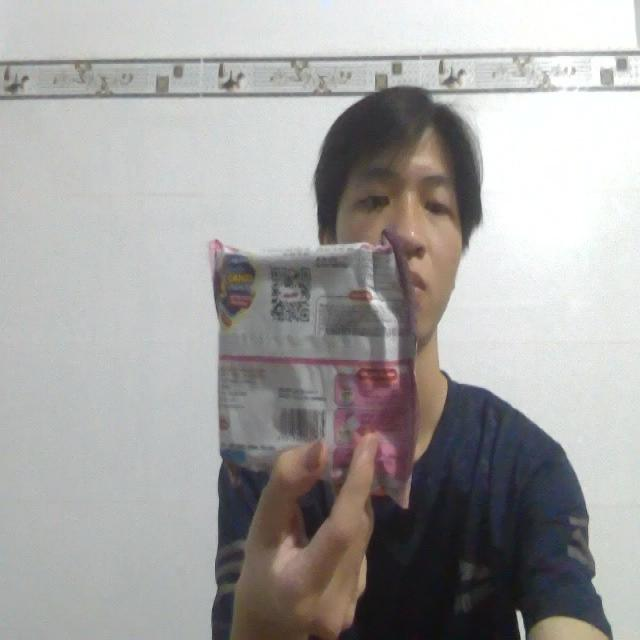mi hao hao: (188, 214, 428, 512)
